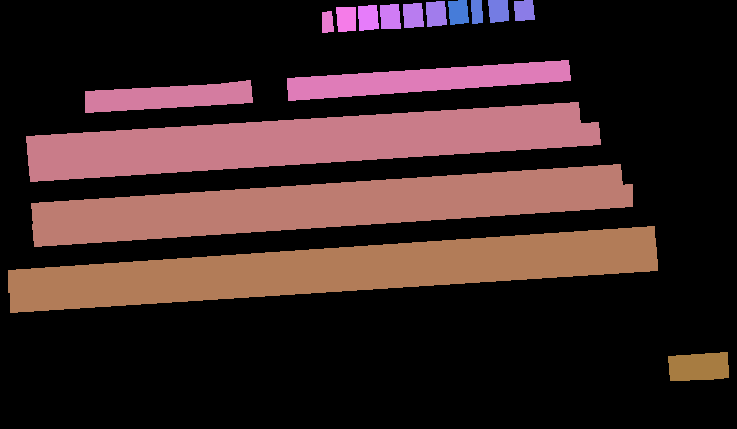parkingspot: (8, 226, 655, 292), (10, 247, 657, 312), (32, 184, 632, 246), (31, 164, 622, 226), (28, 122, 600, 181), (26, 102, 580, 161), (287, 60, 570, 100), (85, 80, 252, 112), (668, 352, 728, 380), (358, 5, 378, 30), (426, 1, 446, 26), (380, 4, 400, 28), (403, 3, 423, 27), (448, 0, 468, 24), (336, 7, 355, 31), (488, 0, 508, 22), (514, 0, 534, 20), (471, 0, 482, 23), (322, 11, 333, 32)
